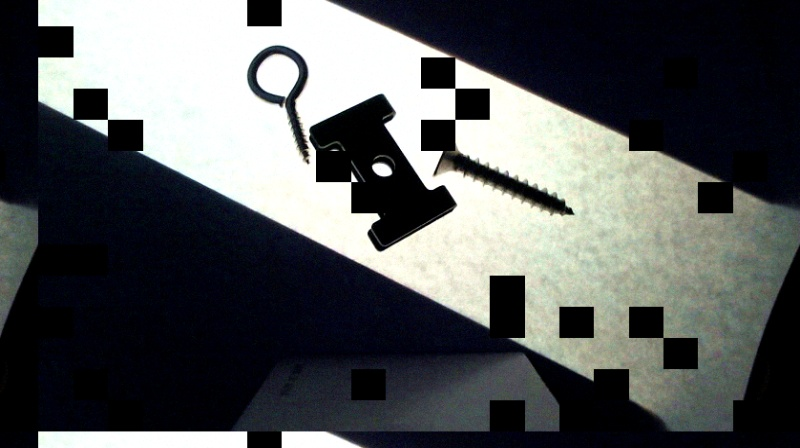O001: (244, 42, 311, 168)
O002: (307, 91, 456, 253)
S001: (434, 134, 571, 215)
